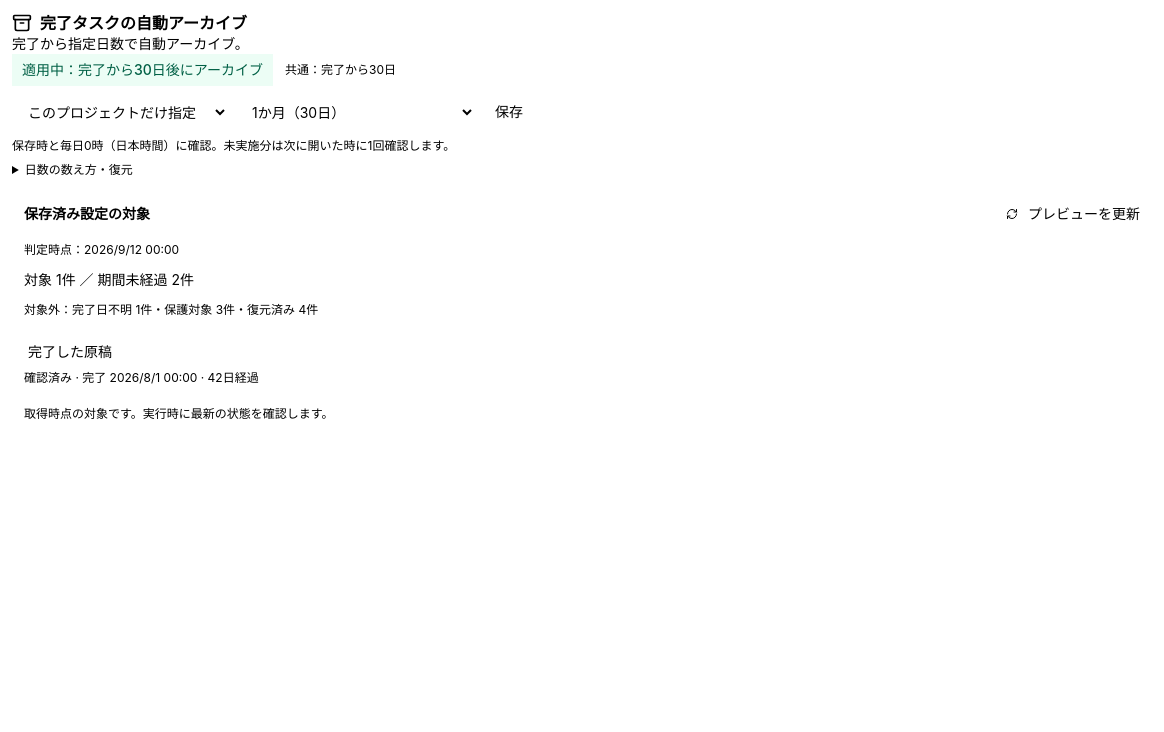
Test case: AutoArchiveSettings server policy › can read back a changed server revision only after the user chooses to discard their draft
The width and height of the screenshot is (1164, 732).
Expected: the 1st dropdown is enabled, [12,94,228,130]
Select "1週間（7日）" in the 2nd dropdown named "完了からの期間" at (356, 112), box [236,94,475,130]
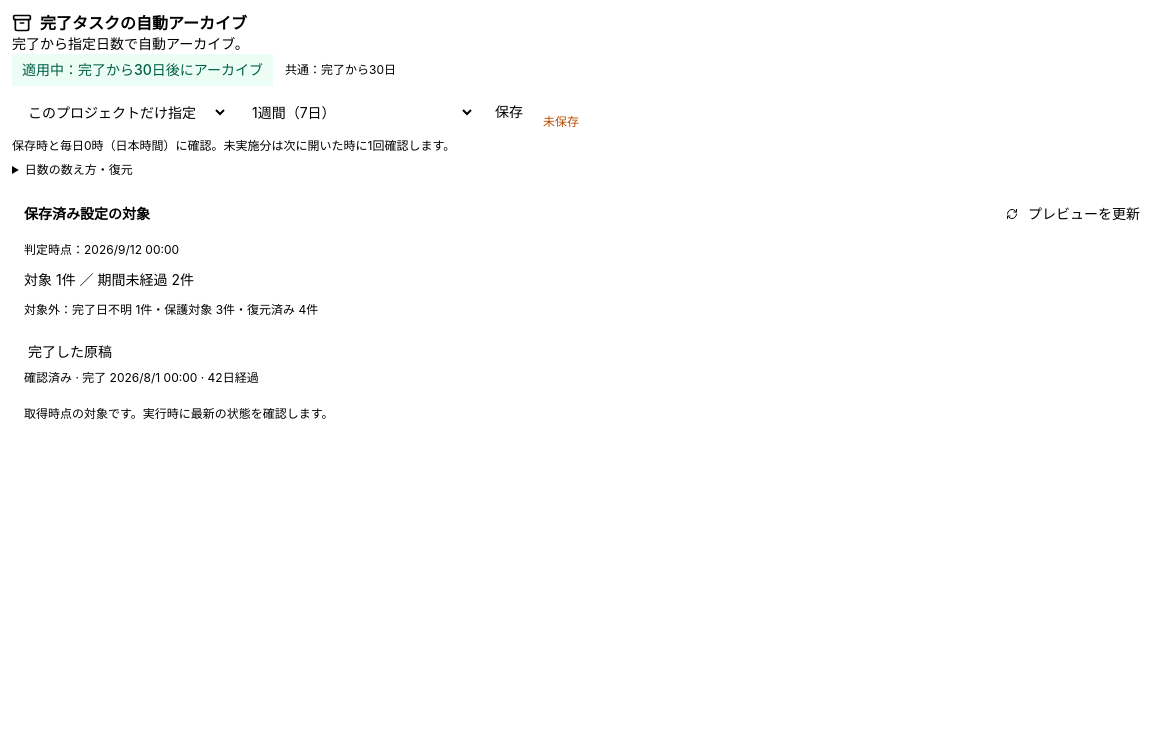
Click the button "保存".
click(509, 112)  # box [483,94,535,130]
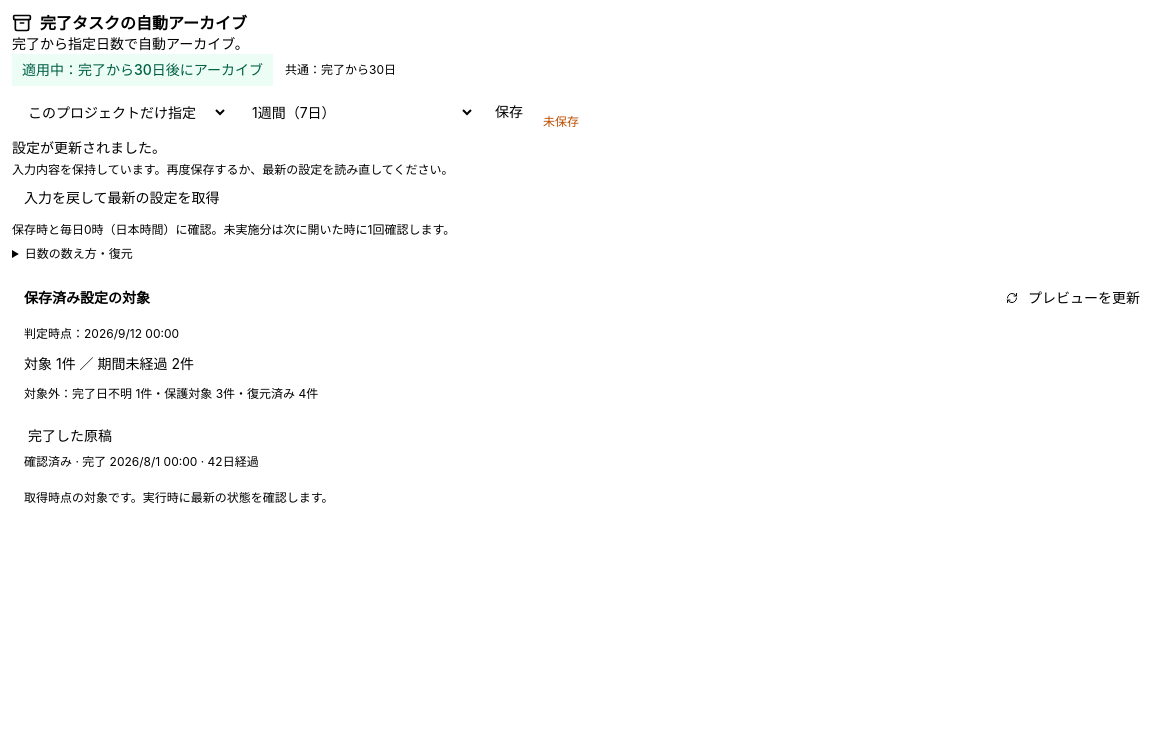
Expected: the message "設定が更新されました。 入力内容を保持しています。再度保存するか、最新の設定を読み直してください。 入力を戻して最新の設定を取得" is shown, [12,139,454,214]
Click the button "入力を戻して最新の設定を取得".
click(122, 198)  # box [12,182,232,214]
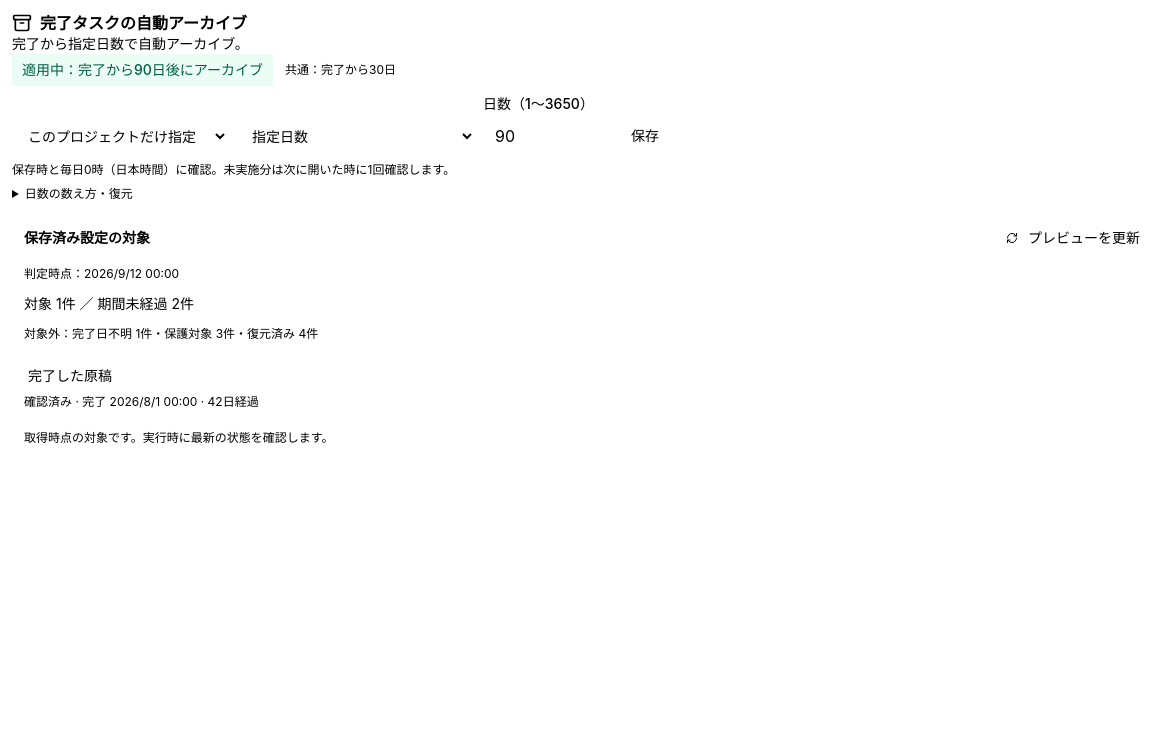
Expected: the number field labelled "日数（1〜3650）" holds "90", [483,118,611,154]
Expected: the message "設定が更新されました。 入力内容を保持しています。再度保存するか、最新の設定を読み直してください。 入力を戻して最新の設定を取得" is gone
Expected: the text "適用中：完了から90日後にアーカイブ" is shown, [12,54,273,86]
